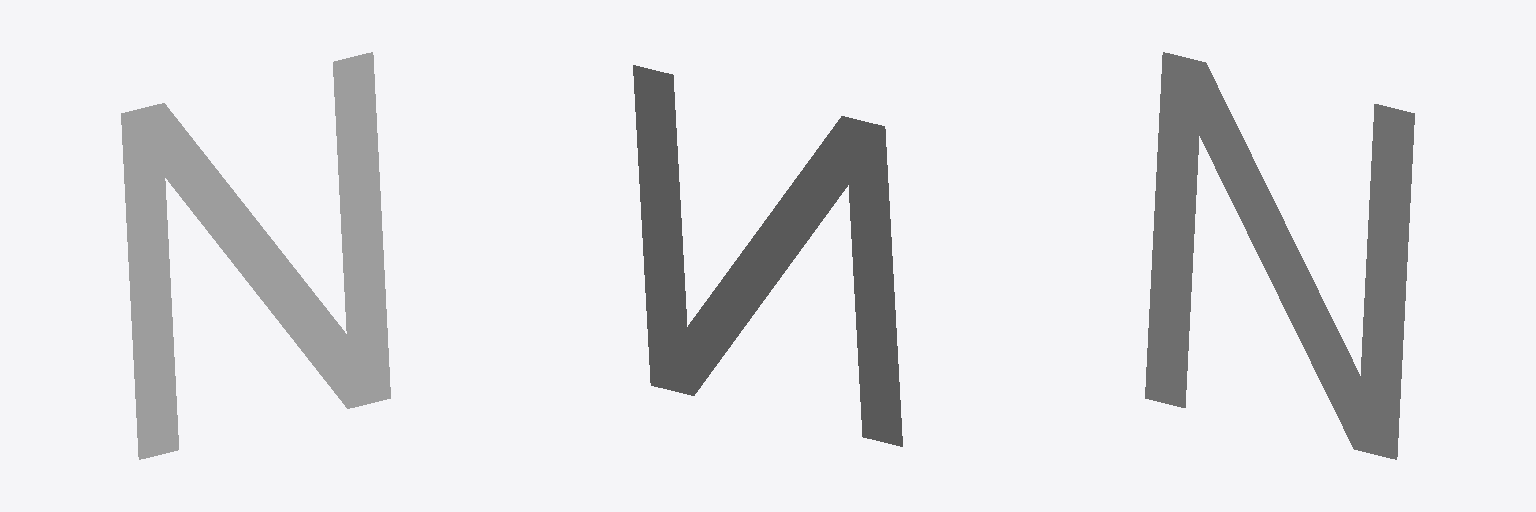
File: original-3.obj
3 views of the same model, side by side, from view 1: azimuth 30°, elevation 25°; view 2: azimuth 150°, elevation 25°; view 3: azimuth 330°, elevation 25° (orthographic).
Parts seen in each view (by area): view 1: mesh2/mesh2-geometry#mesh2-geometry; view 2: mesh2/mesh2-geometry#mesh2-geometry; view 3: mesh2/mesh2-geometry#mesh2-geometry.
Part boxes in pixels (x1,y1,x2,y2): mesh2/mesh2-geometry#mesh2-geometry: (121, 52, 390, 459); mesh2/mesh2-geometry#mesh2-geometry: (633, 65, 902, 446); mesh2/mesh2-geometry#mesh2-geometry: (1145, 52, 1414, 459).
Bounding box in the file's own units: 0.1009 × 0.1275 × 0.0123.